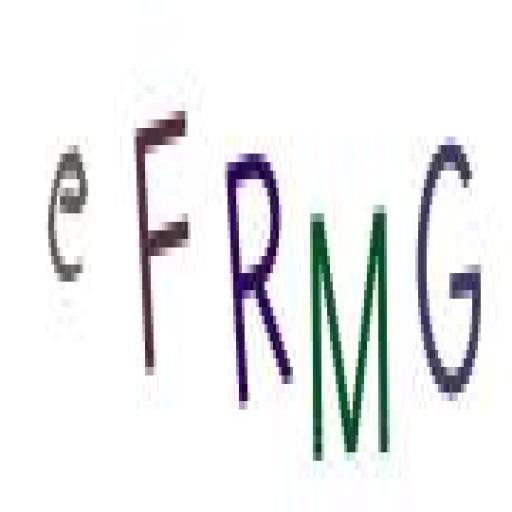F: (128, 103, 194, 389)
G: (412, 132, 486, 412)
M: (306, 200, 394, 466)
R: (222, 142, 298, 417)
e: (46, 134, 92, 298)
